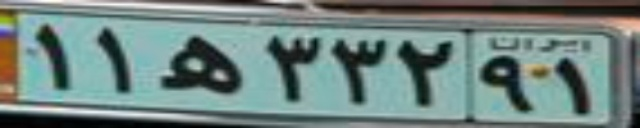1: (31, 23, 71, 90), (94, 25, 132, 93), (552, 57, 591, 114)
2: (394, 38, 455, 105)
3: (328, 36, 387, 104), (265, 35, 323, 101)
9: (475, 54, 531, 112)
he: (153, 32, 244, 92)
